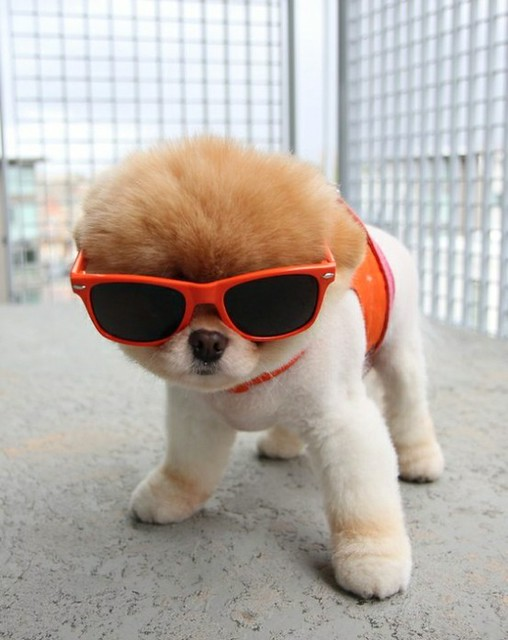dog: (74, 138, 444, 599)
